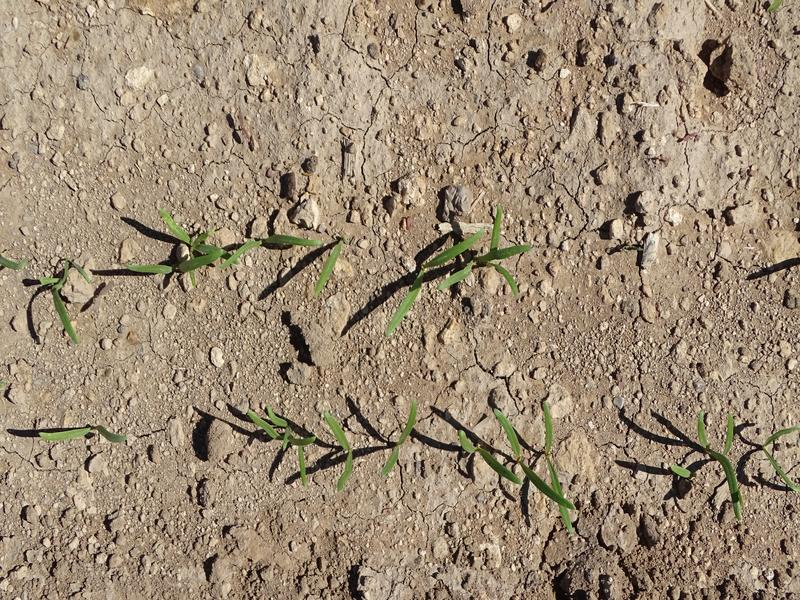Espinaca: (443, 403, 576, 519), (131, 216, 319, 277), (401, 230, 522, 313), (669, 412, 743, 511), (247, 411, 321, 485), (30, 257, 94, 335), (379, 397, 420, 475), (756, 426, 800, 487), (323, 412, 355, 491), (38, 425, 133, 447)
